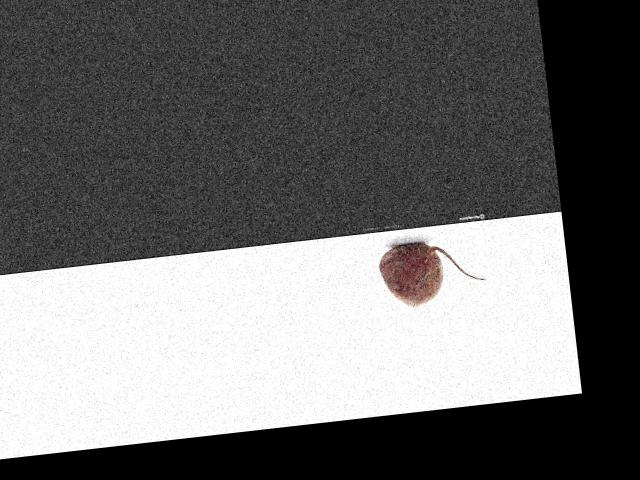beet: (376, 235, 486, 309)
